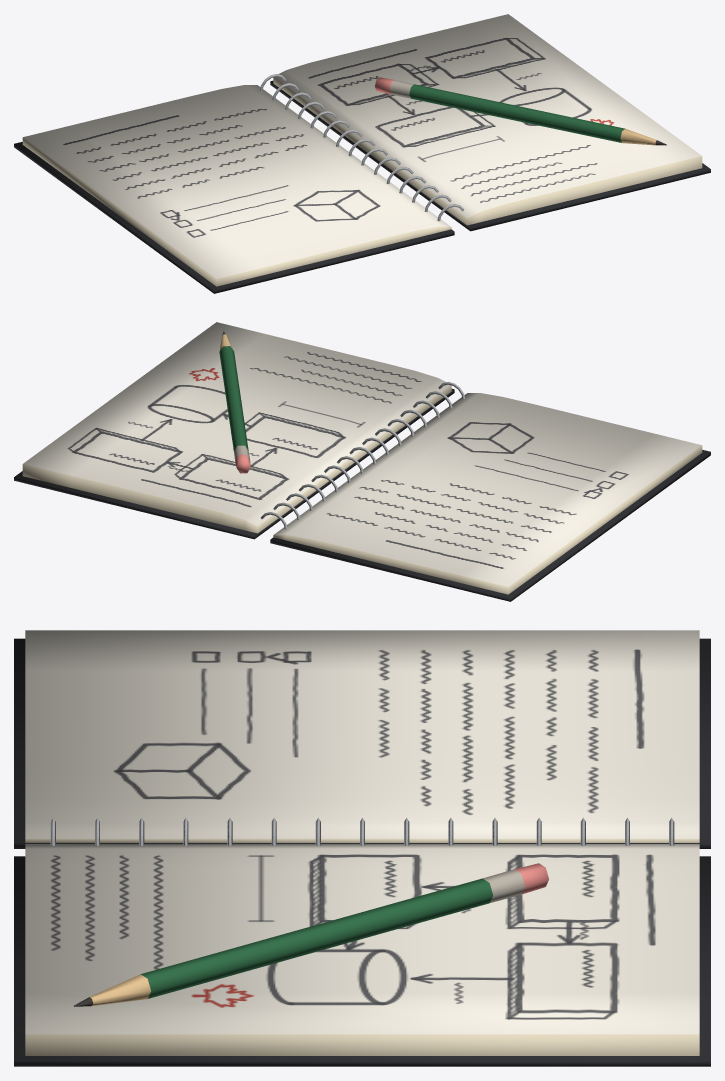
Rendered from desk-sketchbook.glb.
3 renders of one model, top to bottom at view 1: azimuth 30°, elevation 25°; view 2: azimuth 150°, elevation 25°; view 3: azimuth 270°, elevation 25°, orthographic. The views are drawn at different scales.
Visible parts, largest first — view 1: desk-sketchbook; view 2: desk-sketchbook; view 3: desk-sketchbook.
Part boxes in pixels (left/top/right/bottom): desk-sketchbook: left=14, top=14, right=710, bottom=293; desk-sketchbook: left=14, top=322, right=710, bottom=601; desk-sketchbook: left=14, top=630, right=710, bottom=1066.
Size of the model in its own units: 88.8 by 4.72 by 62.
Materials: 1 (1 with a texture image).
